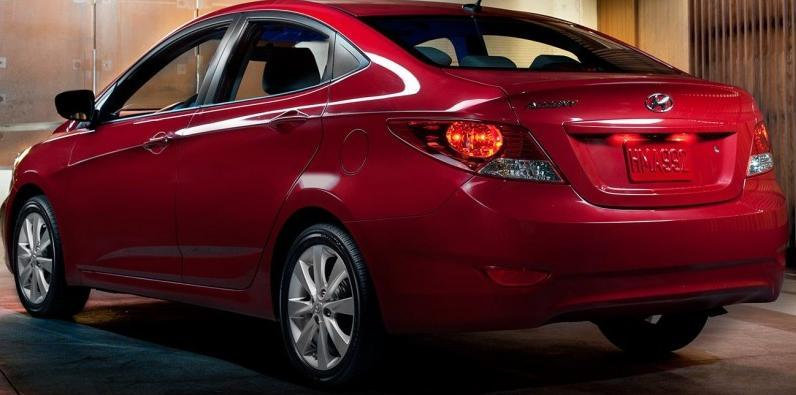back_view: (387, 77, 789, 312)
backlight: (384, 111, 567, 192)
side_glass: (85, 13, 369, 127)
